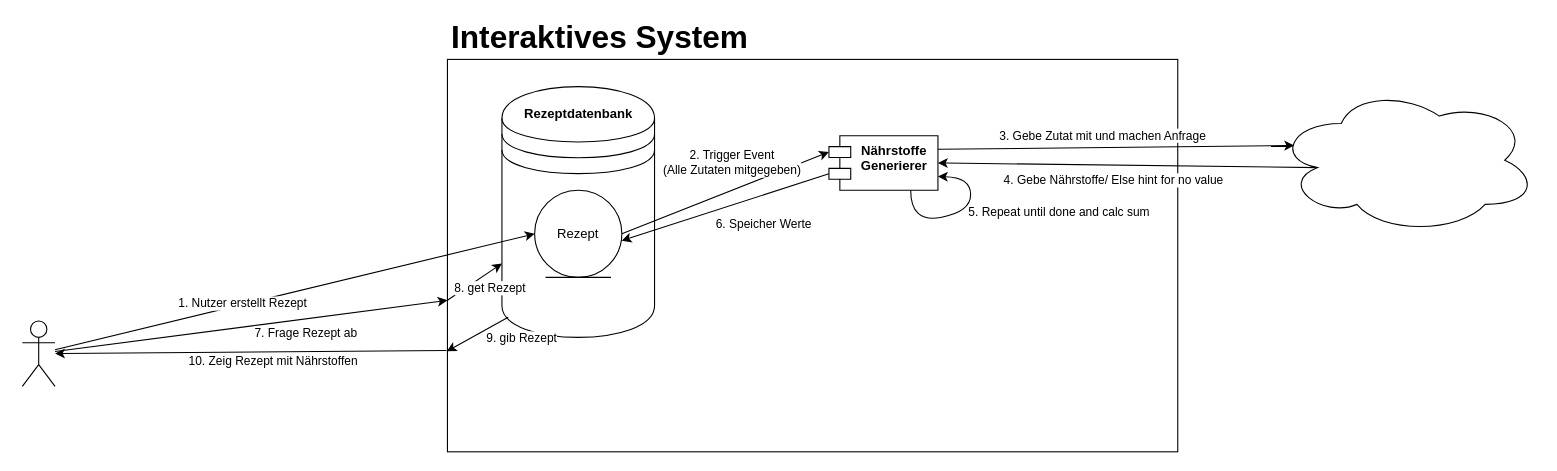
Some shapes in this 1557 by 471 pixel diagram are drawn without their labels. The shapes that lost their labels are listed below. From the top down, each one's centre as x and y in pixels, then its label:
the point at 1406,160: Nährstoffe API
the point at 38,353: Nutzer
